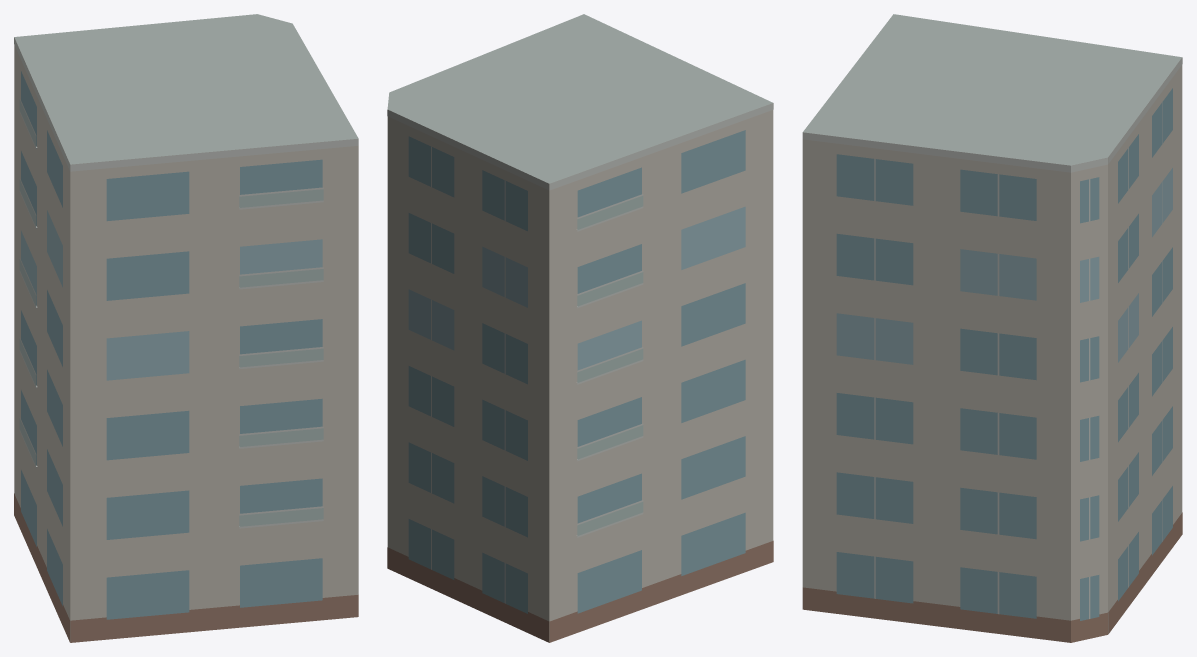
File: survey-upis-32872775.glb
The picture shows the model from 3 angles, left to right: view 1: azimuth 30°, elevation 25°; view 2: azimuth 150°, elevation 25°; view 3: azimuth 270°, elevation 25°; orthographic projection. The views are drawn at different scales.
Parts seen in each view (by area): view 1: survey-upis-32872775.tmp; view 2: survey-upis-32872775.tmp; view 3: survey-upis-32872775.tmp.
Boxes of the visible parts, x1,y1,x2,y2 form: survey-upis-32872775.tmp: [14, 14, 358, 642]; survey-upis-32872775.tmp: [387, 14, 773, 642]; survey-upis-32872775.tmp: [802, 14, 1182, 642].
Bounding box in the file's own units: 11.25 × 16.5 × 11.91.
